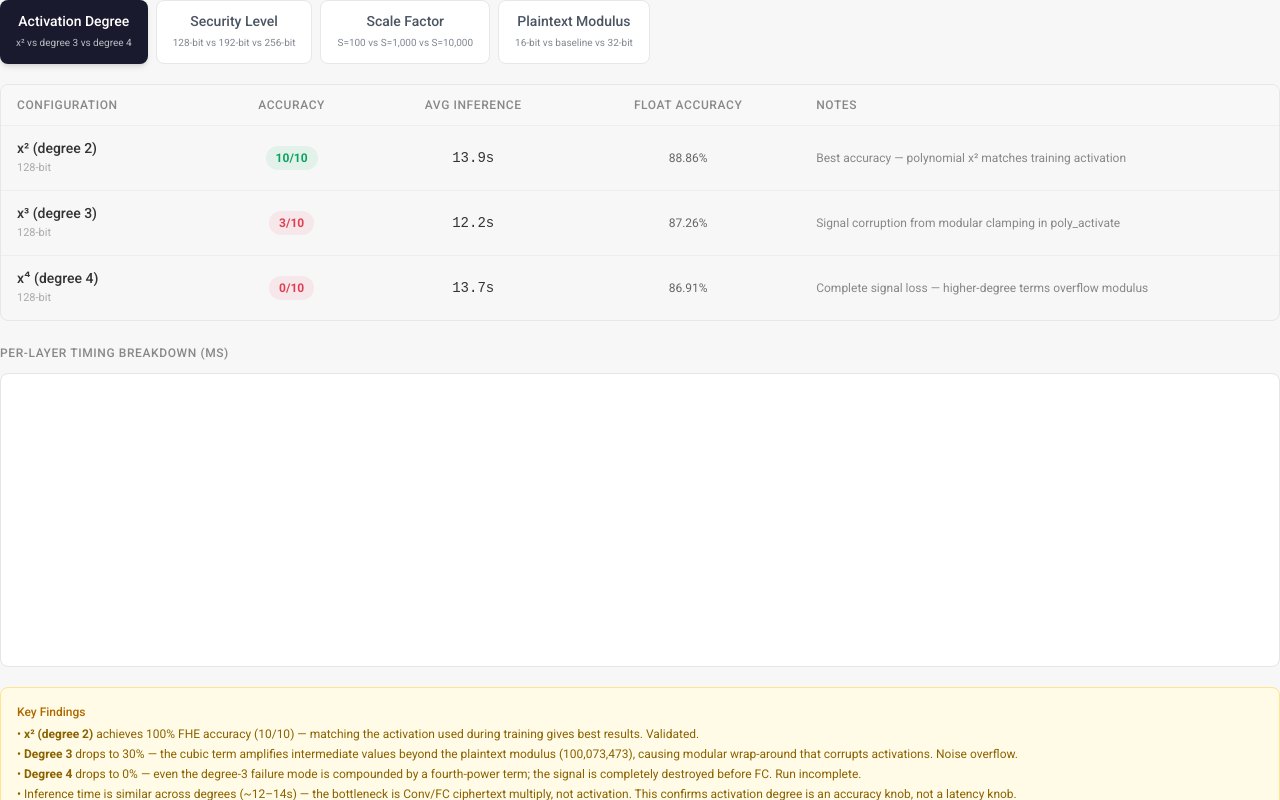
Test: ParameterComparison › hides per-layer chart on security tab
This screenshot has width=1280, height=800.
Click the button "Security Level" at (234, 32), box [156,0,312,64]
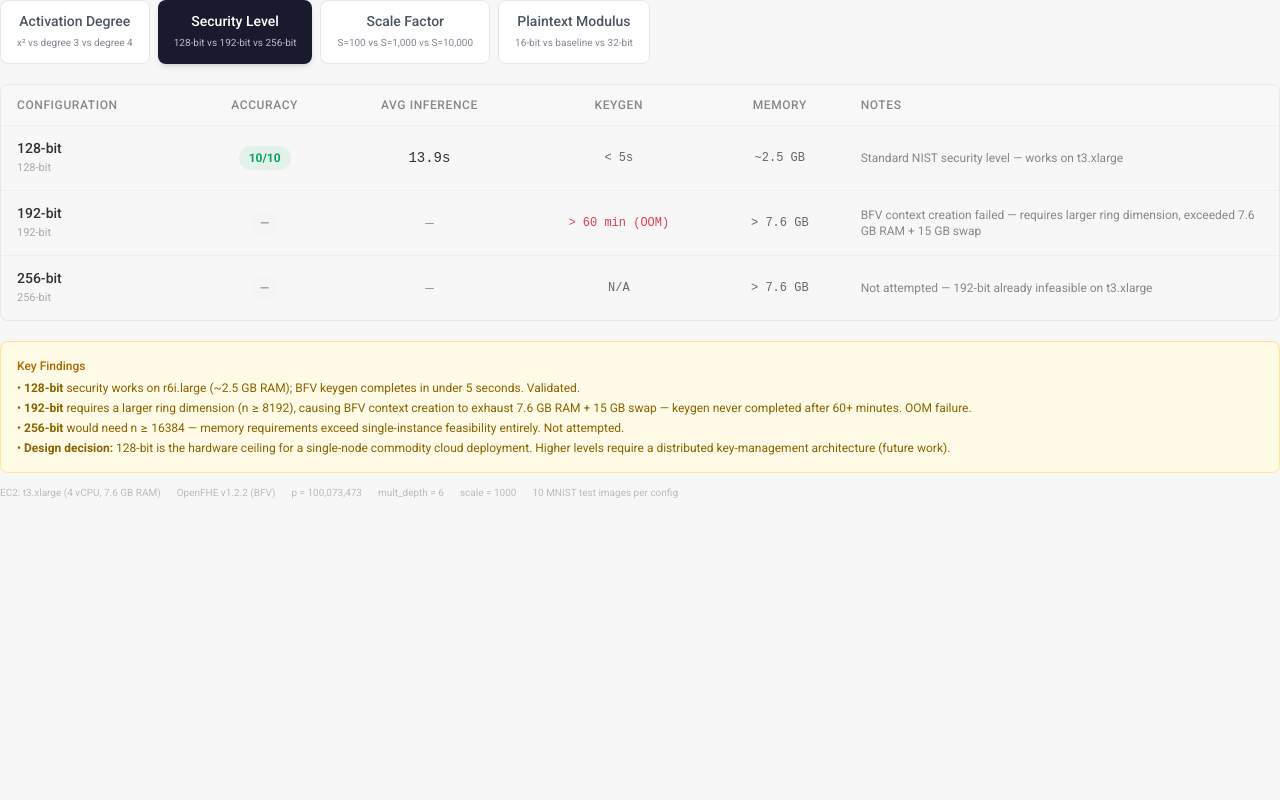
Expected: the heading "Per-Layer Timing Breakdown (ms)" is gone
